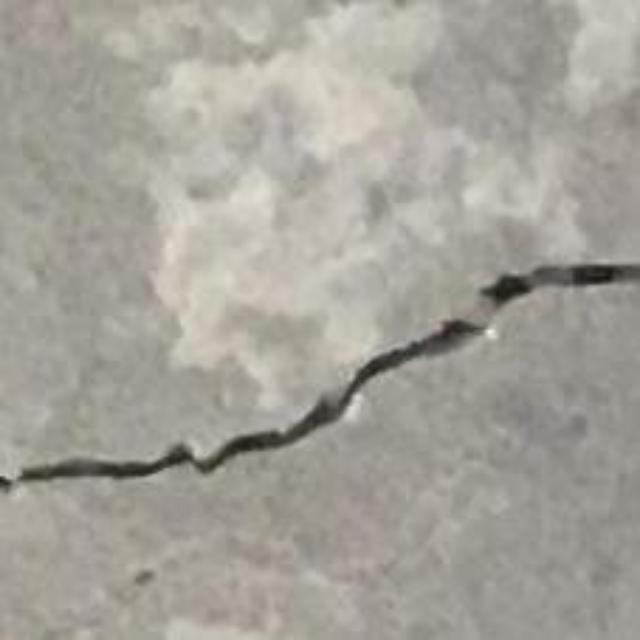crack: (0, 263, 639, 496)
peeling plaster: (147, 0, 549, 405)
